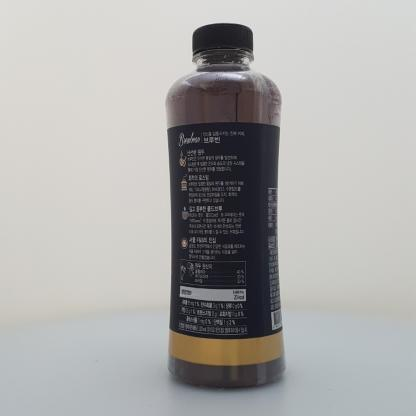-------------: (165, 23, 287, 389)
